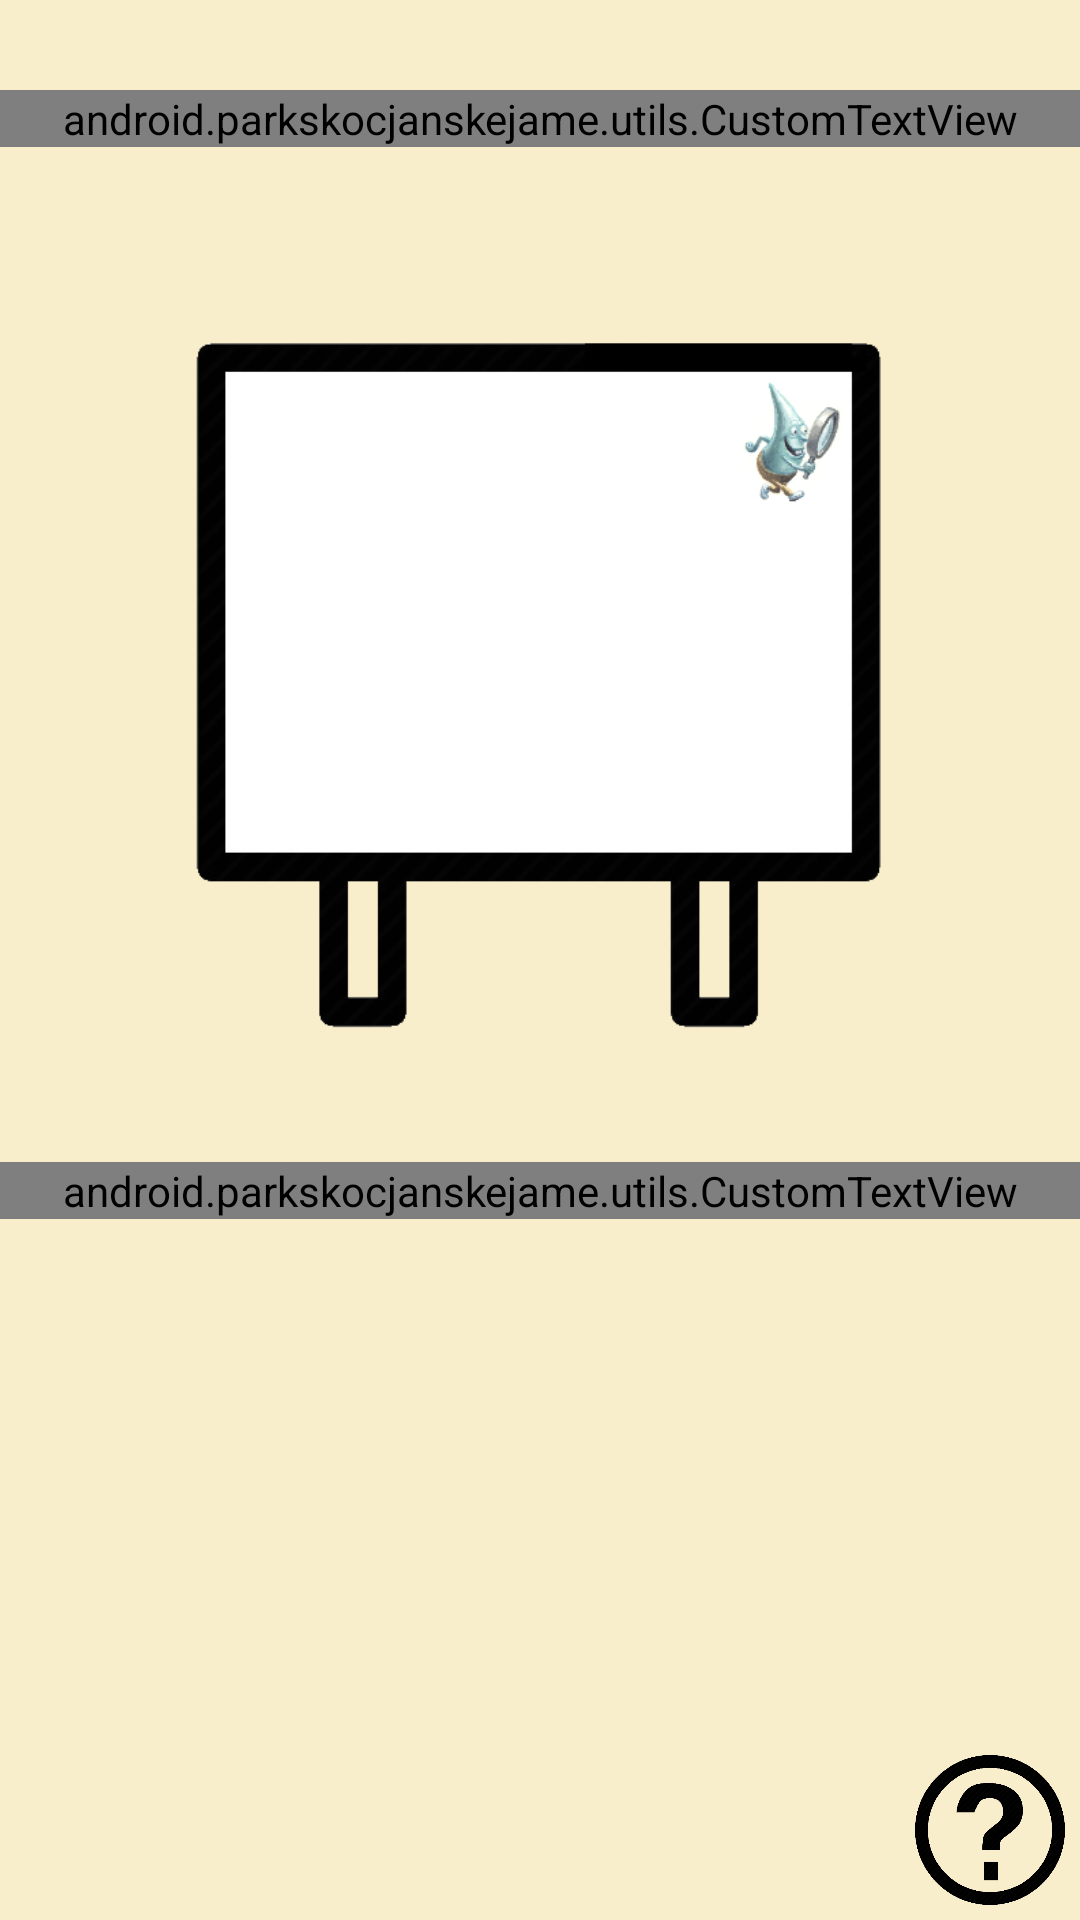

Named icons in this screenshot (1080x1920) and their centers, (x=x, y=y):
help: (x=990, y=1830)
